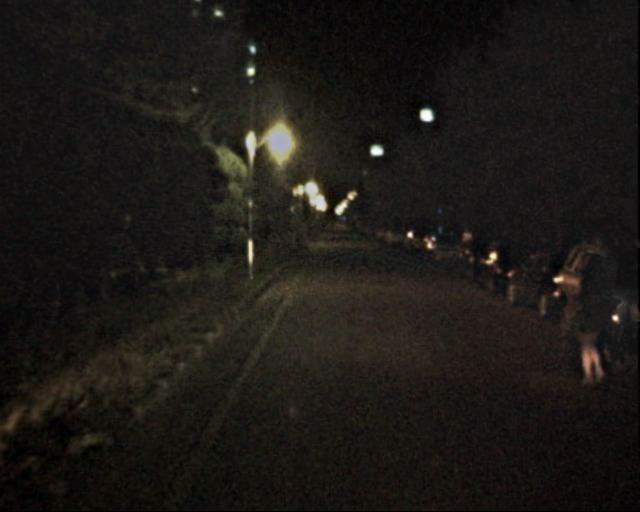person: (577, 234, 627, 355), (563, 269, 612, 389)
